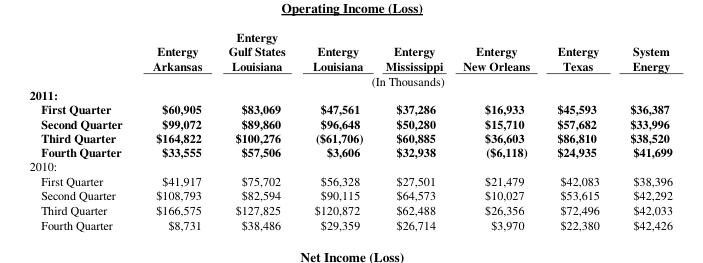table: (28, 28, 671, 231)
table column: (28, 28, 136, 231), (452, 28, 542, 231), (214, 28, 298, 231), (373, 28, 452, 231), (136, 28, 214, 231), (298, 28, 373, 231), (542, 28, 614, 231), (614, 28, 671, 231)
table column header: (28, 28, 671, 87)
table projected row header: (28, 87, 671, 101), (28, 158, 671, 172)
table row: (28, 28, 671, 72), (28, 72, 671, 87), (28, 101, 671, 116), (28, 172, 671, 187), (28, 187, 671, 202), (28, 216, 671, 231), (28, 87, 671, 101), (28, 116, 671, 130), (28, 130, 671, 144), (28, 144, 671, 158), (28, 158, 671, 172), (28, 202, 671, 216)
table spanning cell: (136, 72, 671, 87)
